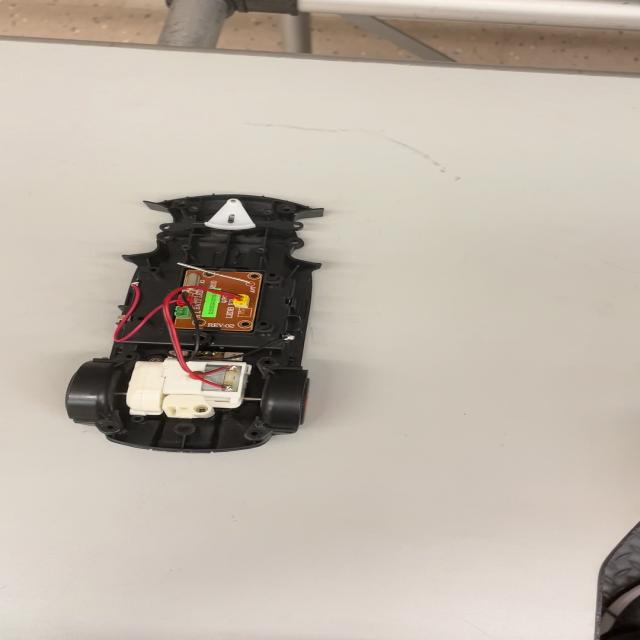Chassis: (73, 186, 320, 458)
